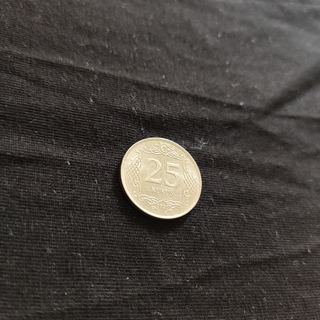25KURUS: (119, 136, 203, 219)
